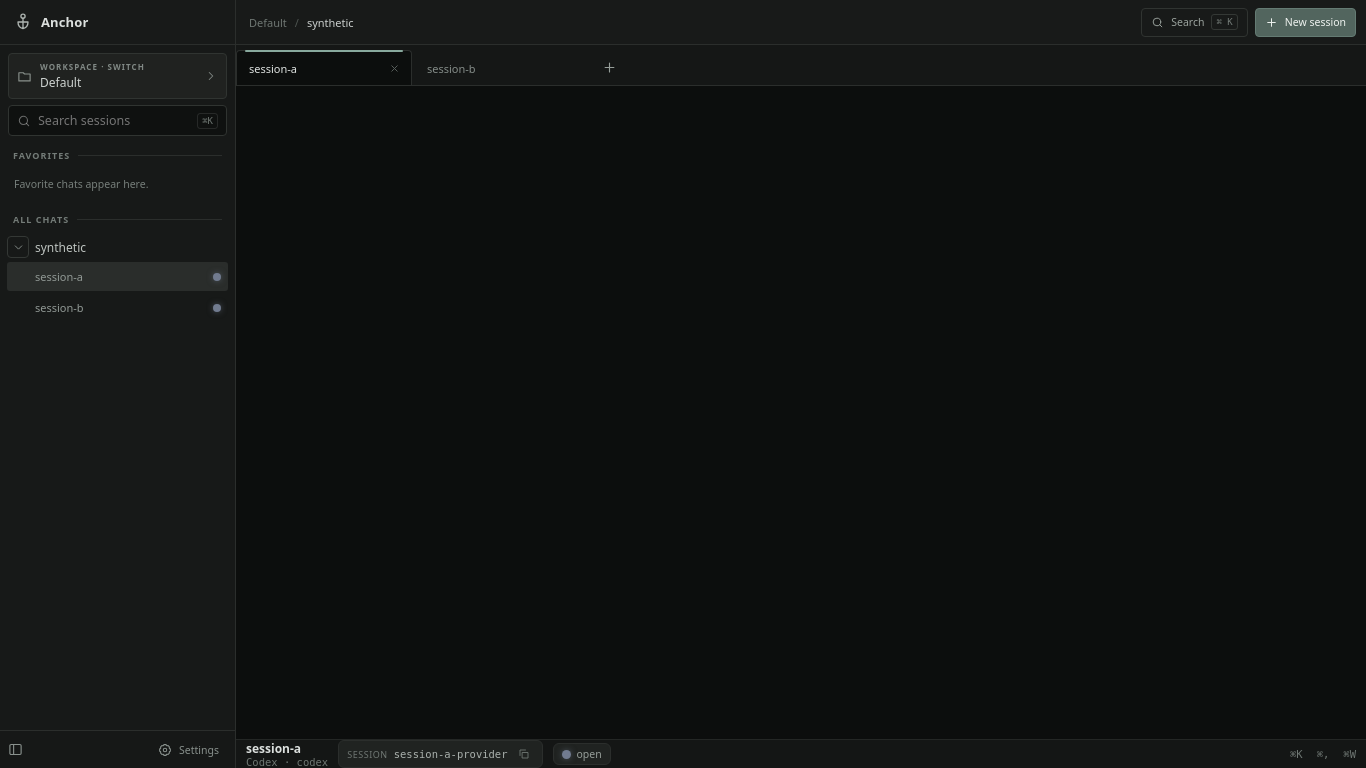
sidebar folder groups › keeps an unread response blue when closing another tab selects it automatically
Click the 1st text "session-b".
click(451, 68)  # box x1=427 y1=60 x2=476 y2=76
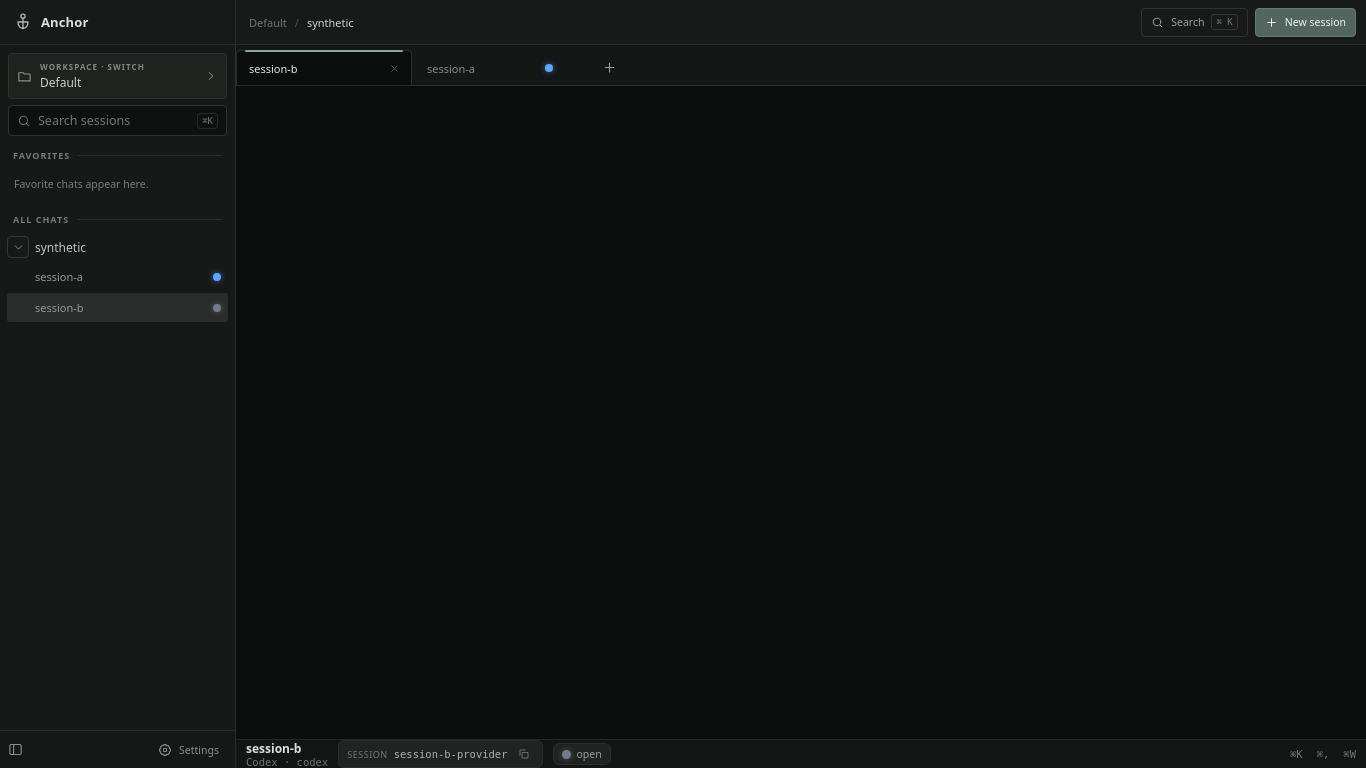
Now the element named "AI response ready" below "All chats" is shown, box x1=213 y1=272 x2=221 y2=280
Click the button named "Close tab".
click(394, 68)  # box x1=383 y1=56 x2=406 y2=80
Wait 5000 ms
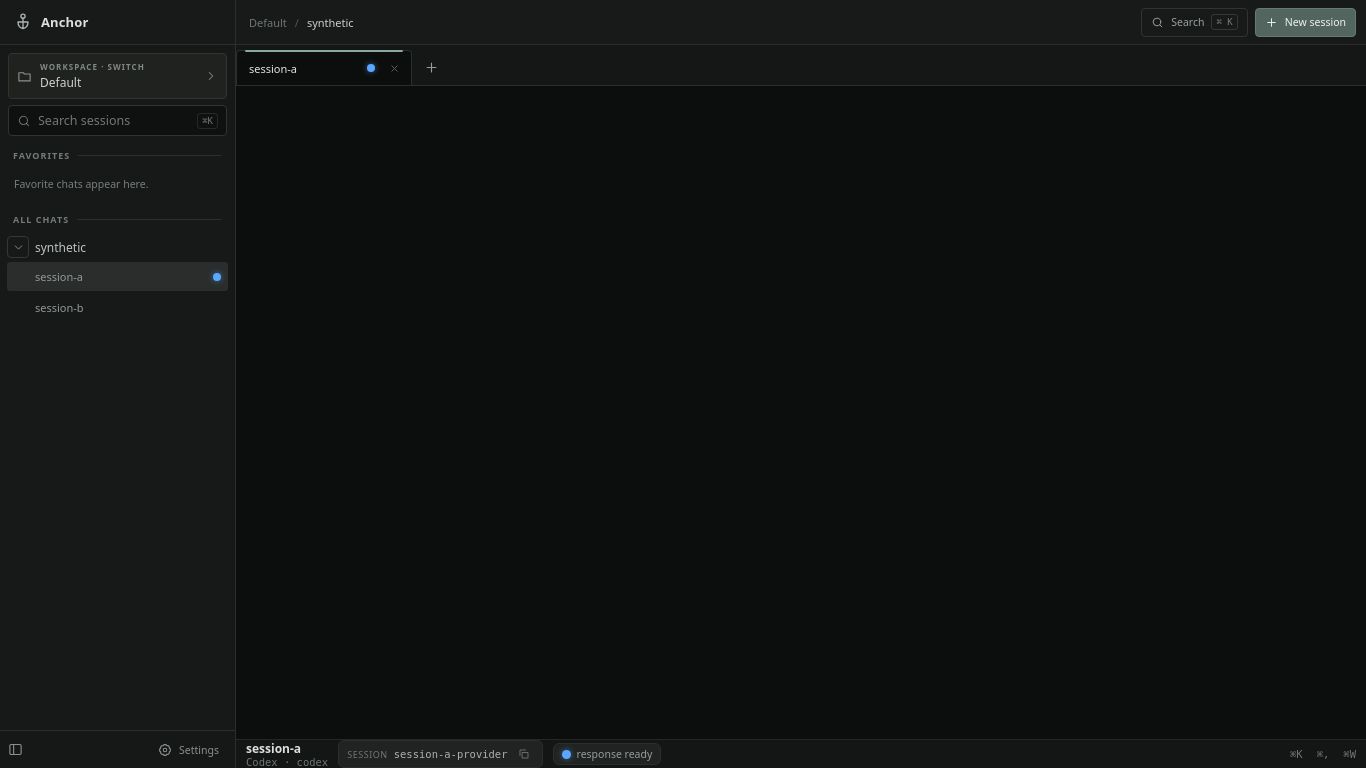
Now the element named "AI response ready" below "All chats" is shown, box x1=213 y1=272 x2=221 y2=280
# Clicking the already visible tab is still an explicit read action.
Click the 1st text "session-a".
click(273, 68)  # box x1=249 y1=60 x2=297 y2=76
Wait 1000 ms
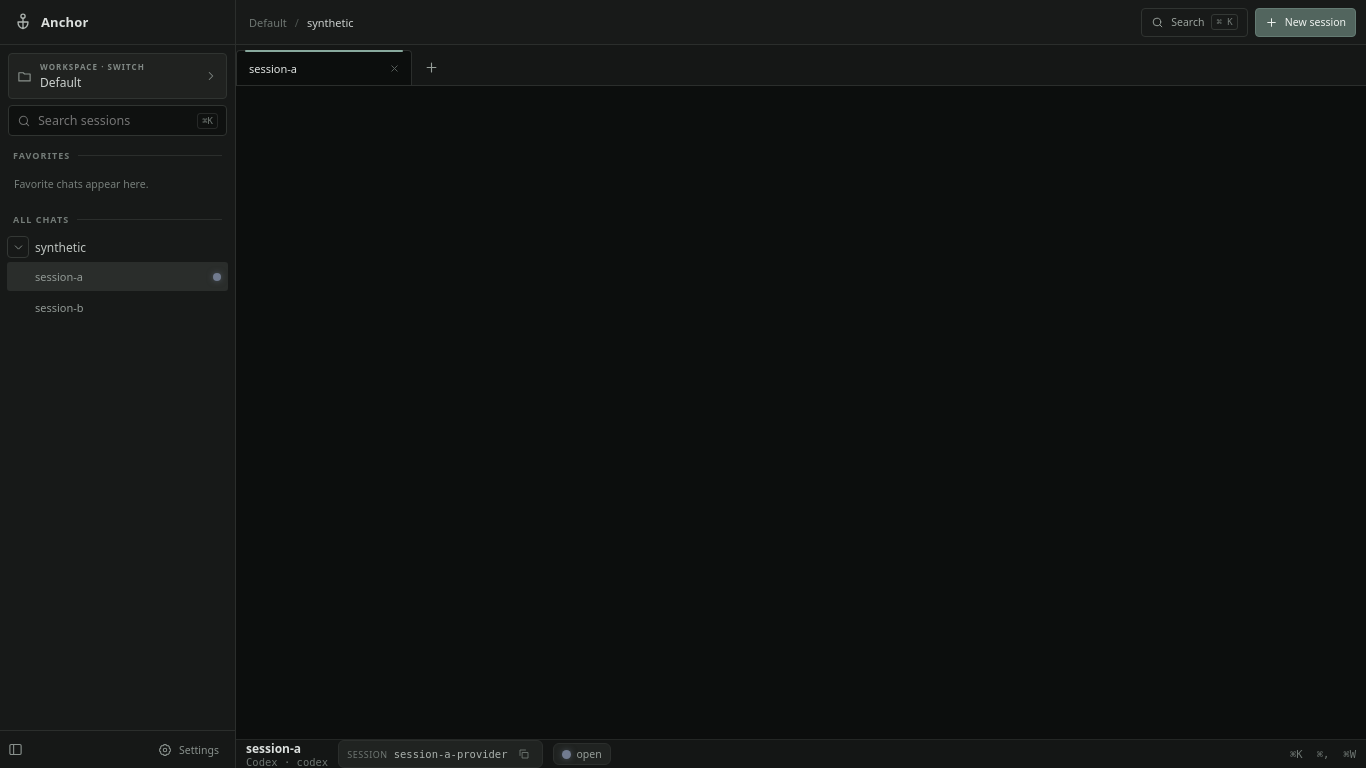
Now the element named "Open chat" below "All chats" is shown, box x1=213 y1=272 x2=221 y2=280
